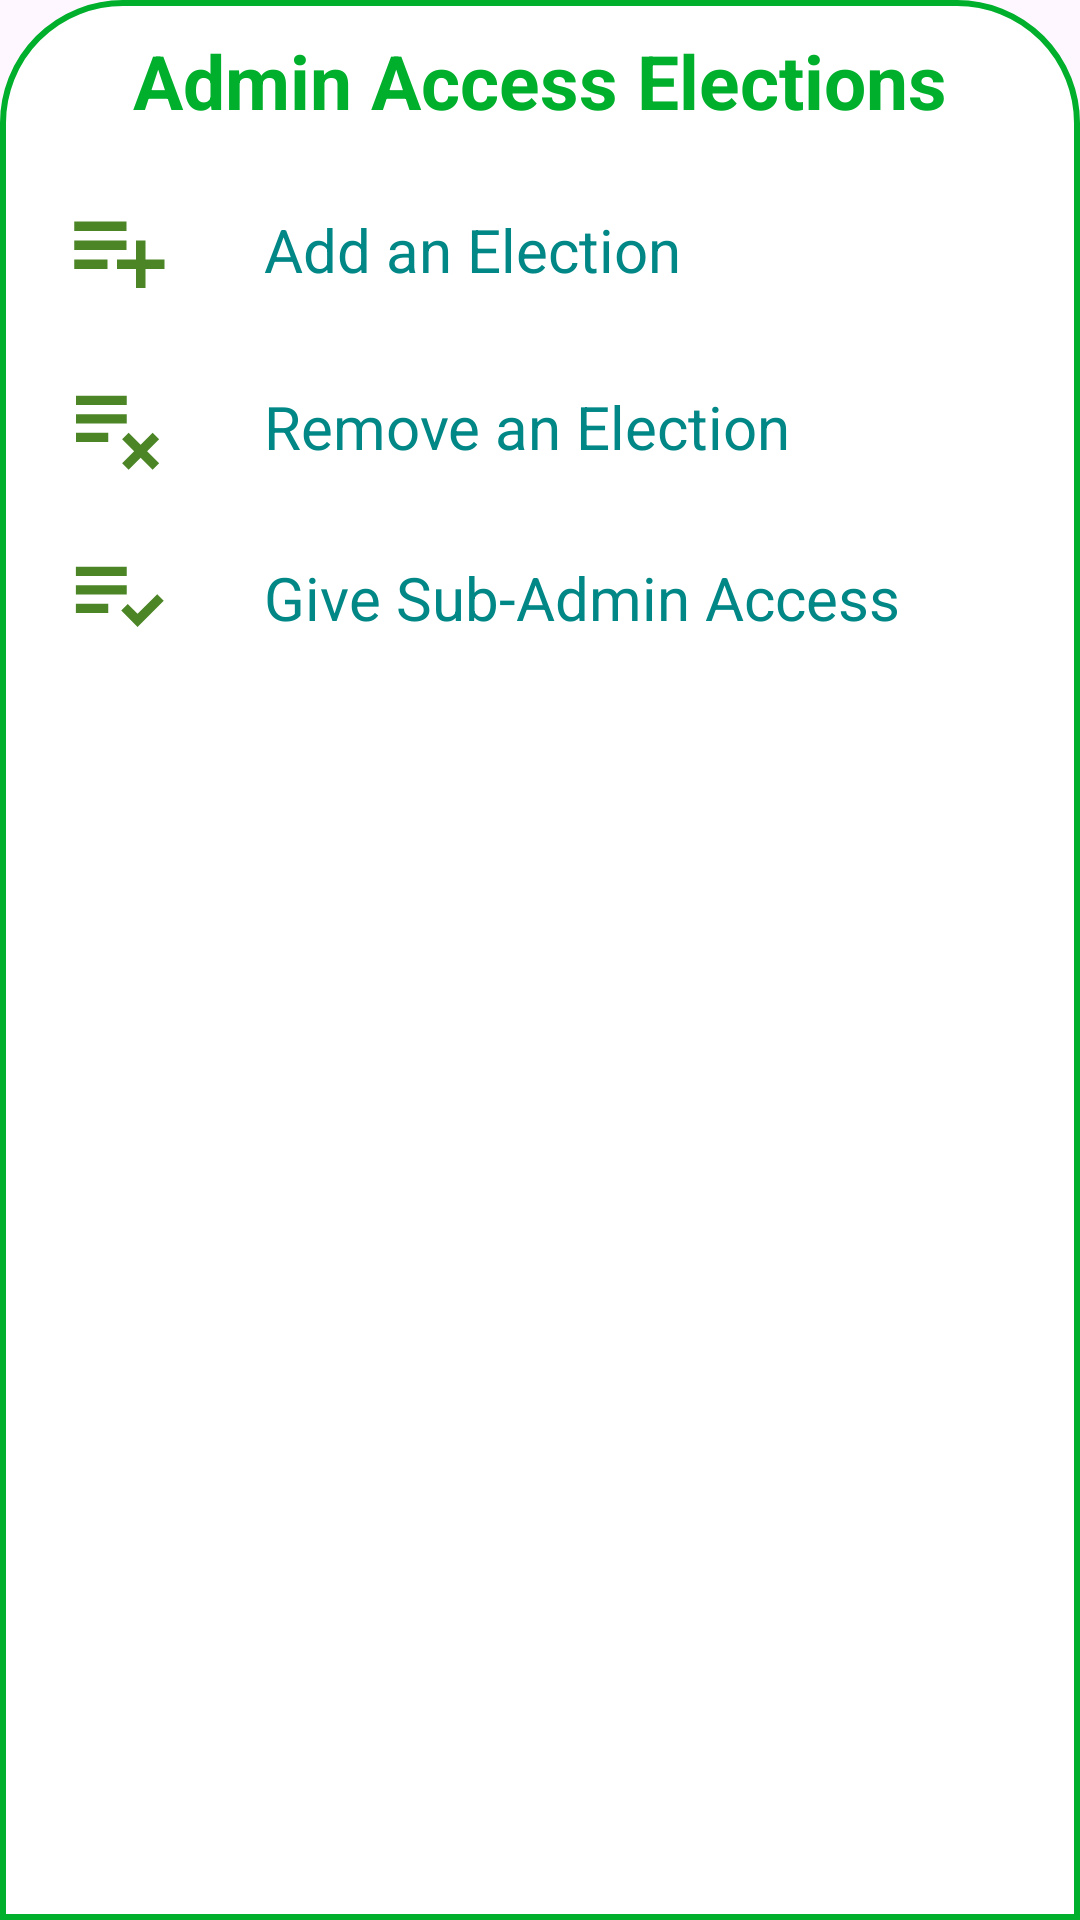

Point at icon controls on the screen. Image size 1080*1920, points as [x,y].
playlist add: [119,254]
playlist add check: [119,596]
playlist remove: [117,432]
